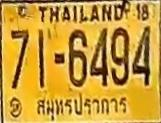1: (38, 29, 44, 89)
4: (89, 28, 107, 86), (132, 26, 150, 84)
6: (68, 29, 87, 86)
7: (10, 29, 30, 87)
9: (110, 27, 129, 84)
SPK: (33, 92, 130, 116)
